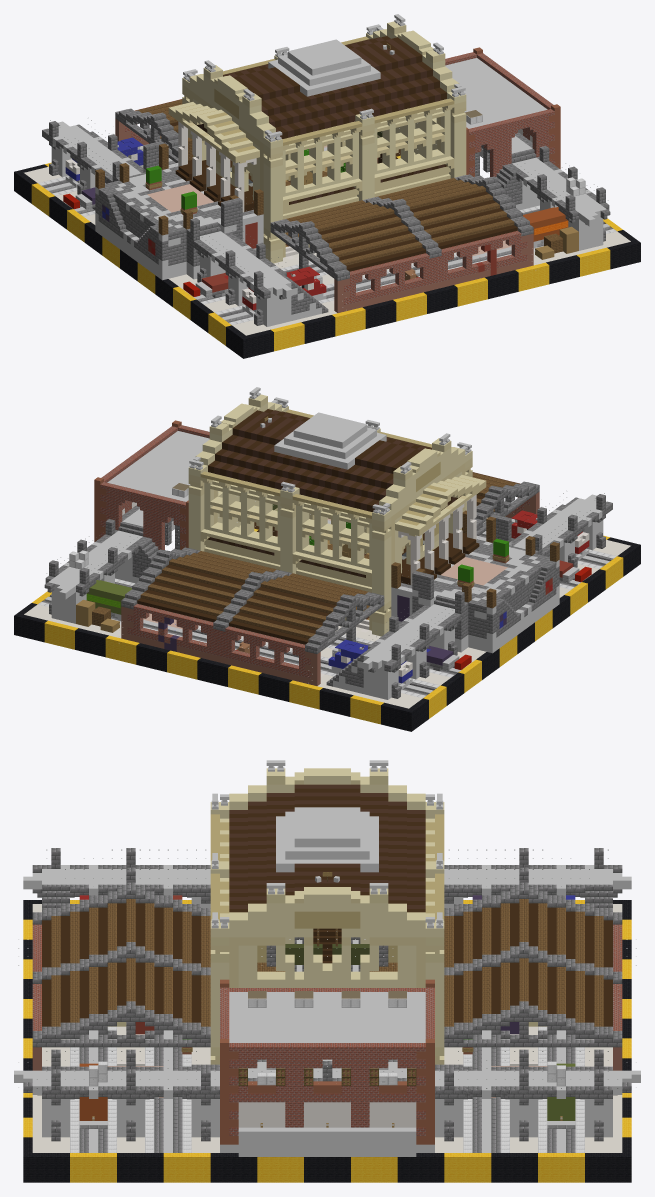
The model's file is minecraft.obj.
The picture shows the model from 3 angles, top to bottom: view 1: azimuth 30°, elevation 25°; view 2: azimuth 150°, elevation 25°; view 3: azimuth 270°, elevation 25°; orthographic projection. The views are drawn at different scales.
Size of the model in its own units: 65 by 27 by 67.
